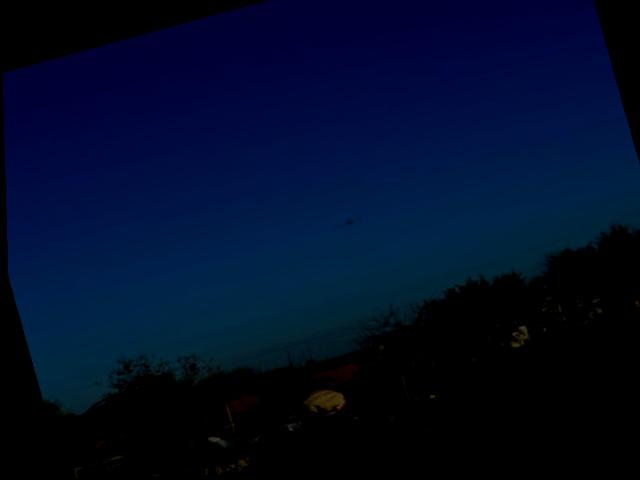iha: (334, 217, 363, 229)
